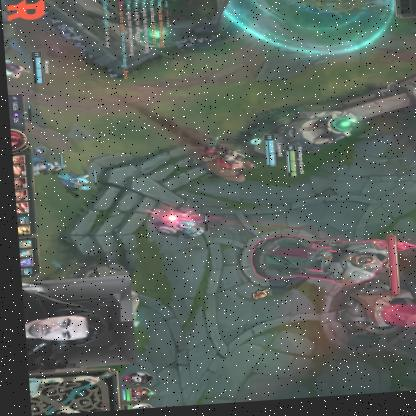streamer: (16, 278, 103, 364)
